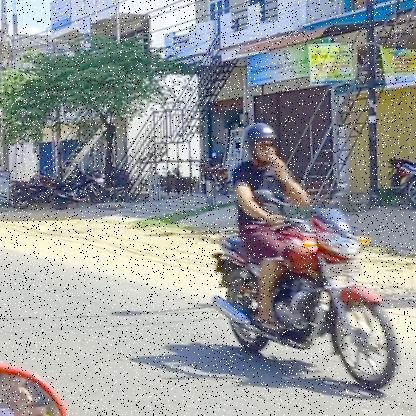motorcycle: (206, 203, 402, 394)
